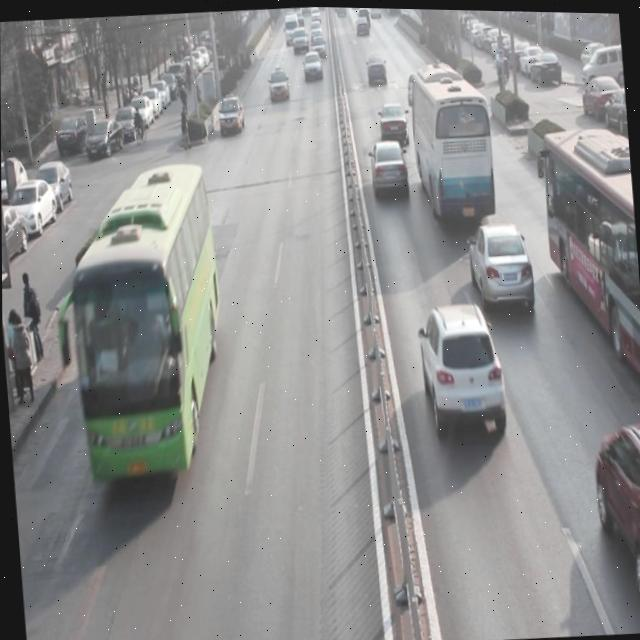car: (415, 297, 508, 442), (464, 210, 536, 312), (366, 133, 412, 201), (377, 100, 409, 146), (217, 93, 247, 136), (267, 67, 290, 104), (302, 50, 323, 86), (364, 56, 390, 83), (291, 24, 310, 54), (311, 33, 325, 59)
truck: (281, 11, 302, 46)
van: (61, 155, 232, 484), (540, 115, 640, 390), (405, 60, 497, 223)
